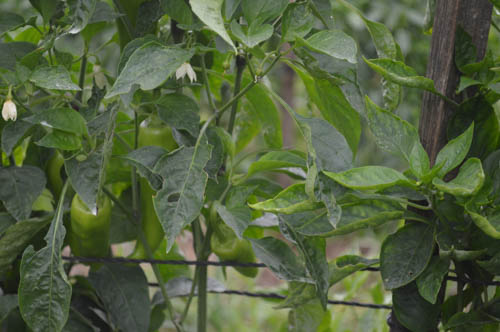ChiliPepper: (127, 122, 175, 267), (72, 194, 113, 267), (212, 228, 258, 281)
